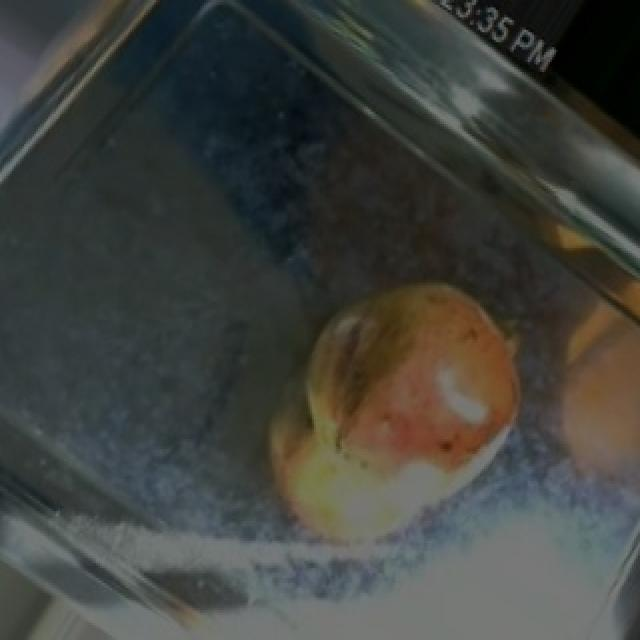fruit: (270, 251, 556, 504)
